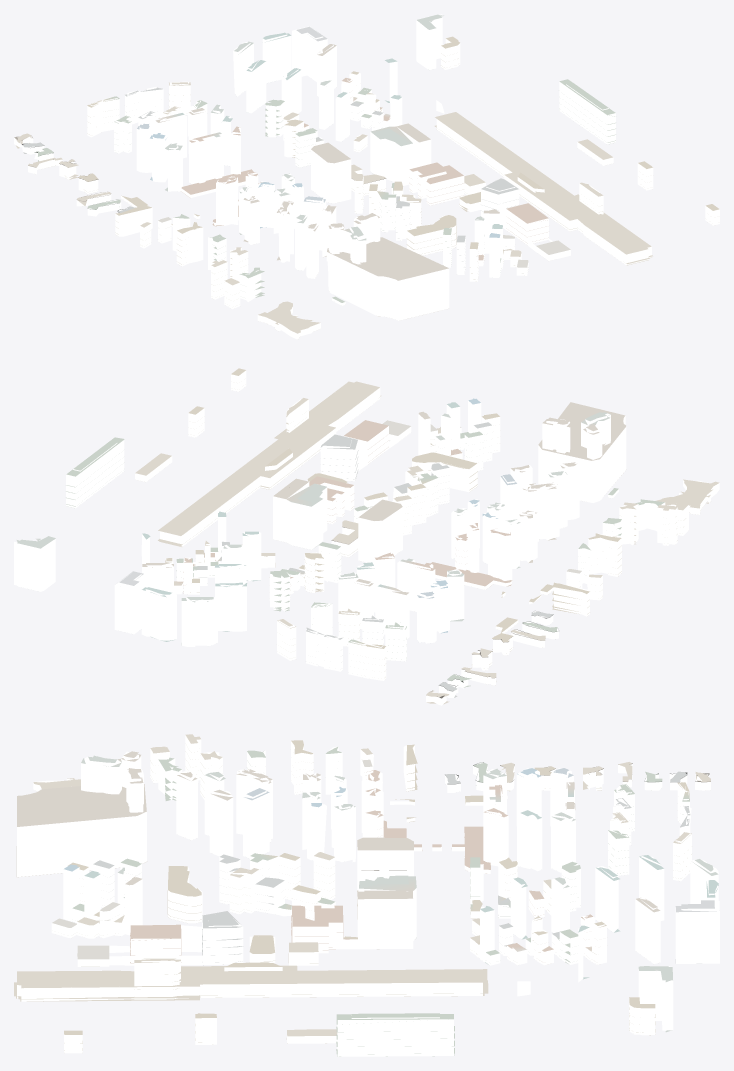
The model's file is buildings--9_-4-coarse.glb.
3 views of the same model, one above another, from view 1: azimuth 30°, elevation 25°; view 2: azimuth 150°, elevation 25°; view 3: azimuth 270°, elevation 25° (orthographic). The views are drawn at different scales.
Parts seen in each view (by area): view 1: block_-9_-4_office, block_-9_-4_residential, block_-9_-4_roof; view 2: block_-9_-4_office, block_-9_-4_residential, block_-9_-4_roof; view 3: block_-9_-4_residential, block_-9_-4_office, block_-9_-4_roof.
Part boxes in pixels (x1,y1,x2,y2): block_-9_-4_office: [136, 14, 502, 320]; block_-9_-4_residential: [14, 39, 719, 339]; block_-9_-4_roof: [16, 14, 719, 337]; block_-9_-4_office: [14, 400, 626, 646]; block_-9_-4_residential: [66, 370, 719, 705]; block_-9_-4_roof: [16, 368, 719, 704]; block_-9_-4_residential: [17, 735, 710, 1056]; block_-9_-4_office: [17, 751, 719, 1030]; block_-9_-4_roof: [14, 734, 718, 1056].
Bounding box in the file's own units: 665 × 90.97 × 691.
